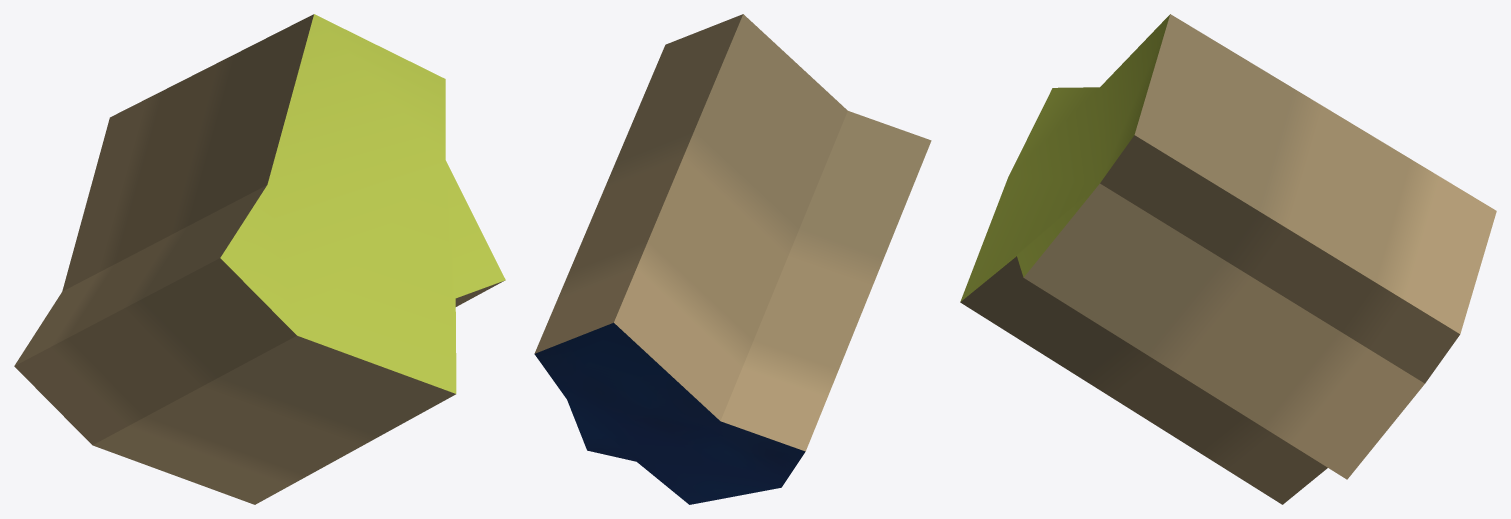
The model's file is 067b_Denmark.glb.
3 renders of one model, left to right at view 1: azimuth 30°, elevation 25°; view 2: azimuth 150°, elevation 25°; view 3: azimuth 270°, elevation 25°, orthographic. The views are drawn at different scales.
Visible parts, largest first — view 1: part_0; view 2: part_0; view 3: part_0.
Boxes of the visible parts, <box> form: part_0: <box>14,14,505,504</box>; part_0: <box>534,14,931,504</box>; part_0: <box>960,14,1496,504</box>.
Size of the model in its own units: 0.1573 by 0.27 by 0.268.
Materials: 1 (1 with a texture image).
